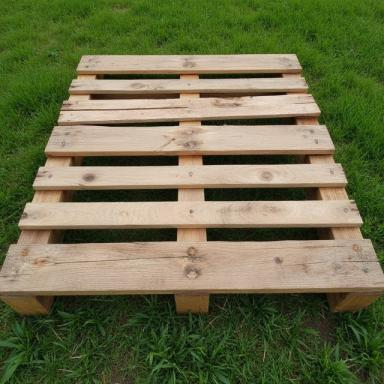pallet: (0, 54, 384, 316)
